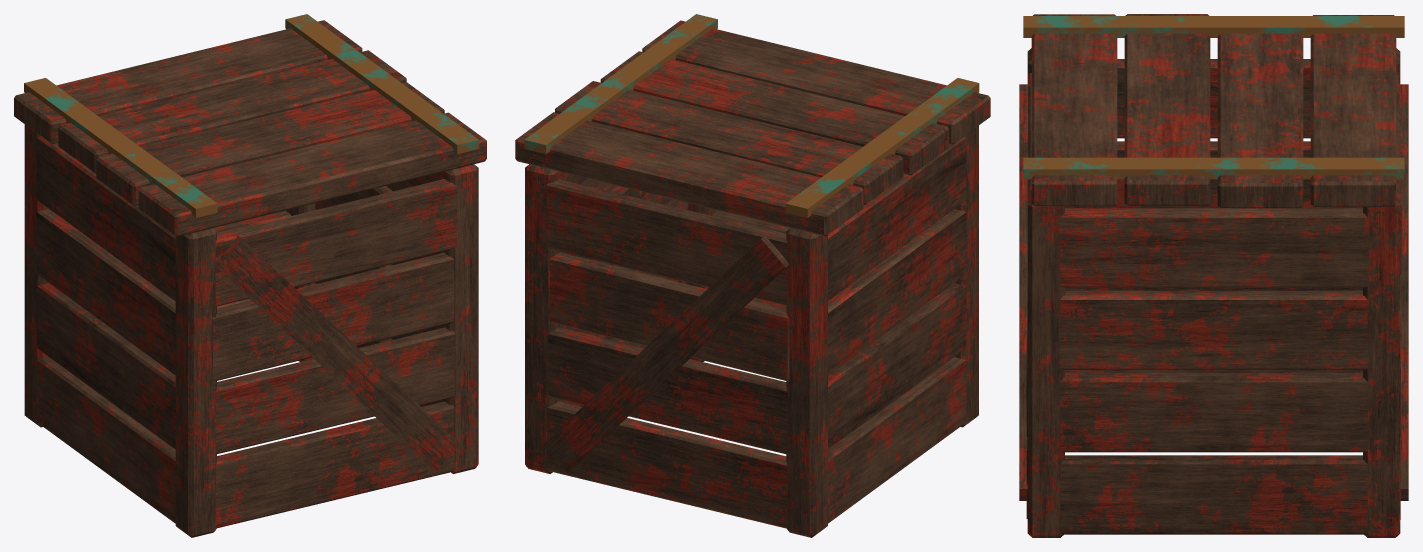
File: Crate_A.glb
3 renders of one model, left to right at view 1: azimuth 30°, elevation 25°; view 2: azimuth 150°, elevation 25°; view 3: azimuth 270°, elevation 25°, orthographic. The views are drawn at different scales.
Visible parts, largest first — view 1: Crate_A__Timber, Crate_A__Bronze; view 2: Crate_A__Timber, Crate_A__Bronze; view 3: Crate_A__Timber, Crate_A__Bronze.
Boxes of the visible parts, box(x1,y1,x2,y2) form: Crate_A__Timber: box(14, 20, 486, 537); Crate_A__Bronze: box(24, 14, 479, 217); Crate_A__Timber: box(515, 20, 990, 537); Crate_A__Bronze: box(524, 14, 979, 217); Crate_A__Timber: box(1019, 14, 1408, 537); Crate_A__Bronze: box(1023, 16, 1404, 179).
Size of the model in its own units: 4.36 by 4.37 by 4.18.
2 materials, 2 textured.
